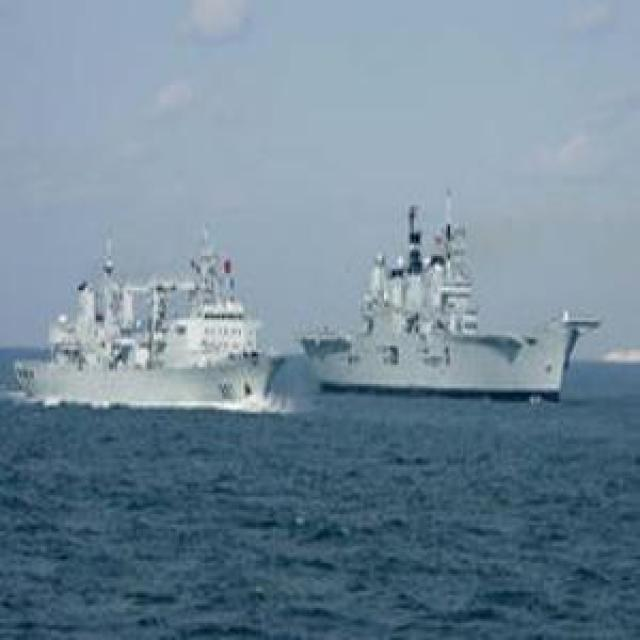navalvessels: (18, 240, 332, 428), (307, 192, 591, 399)
